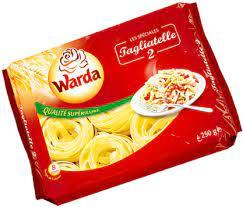Tagliatelle: (3, 2, 241, 207)
